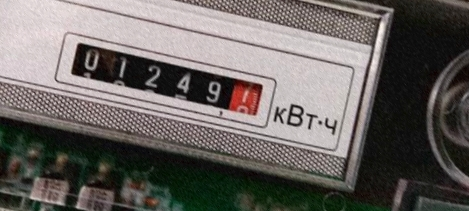0: (81, 45, 102, 73)
1: (113, 52, 130, 80)
2: (142, 62, 162, 91)
4: (174, 68, 194, 95)
7: (237, 78, 256, 106)
9: (202, 77, 223, 105)
screen: (50, 29, 282, 133)
